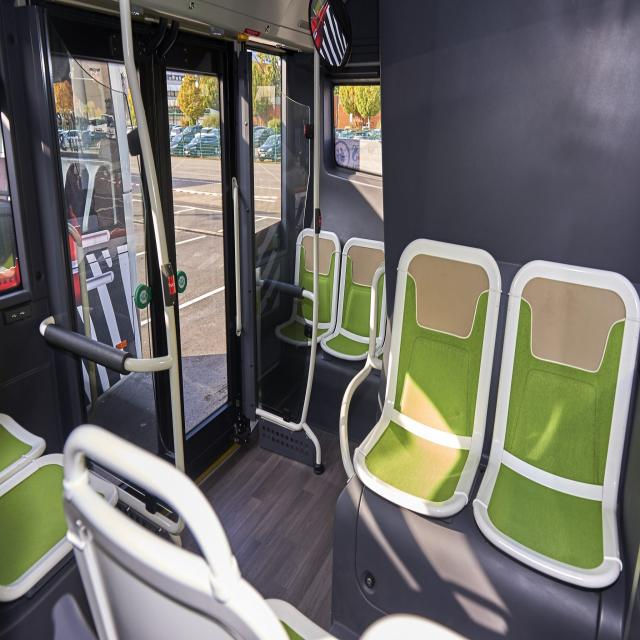empty-seat-frontal: (472, 254, 639, 590), (343, 237, 504, 524), (275, 225, 341, 347), (320, 241, 386, 360)
